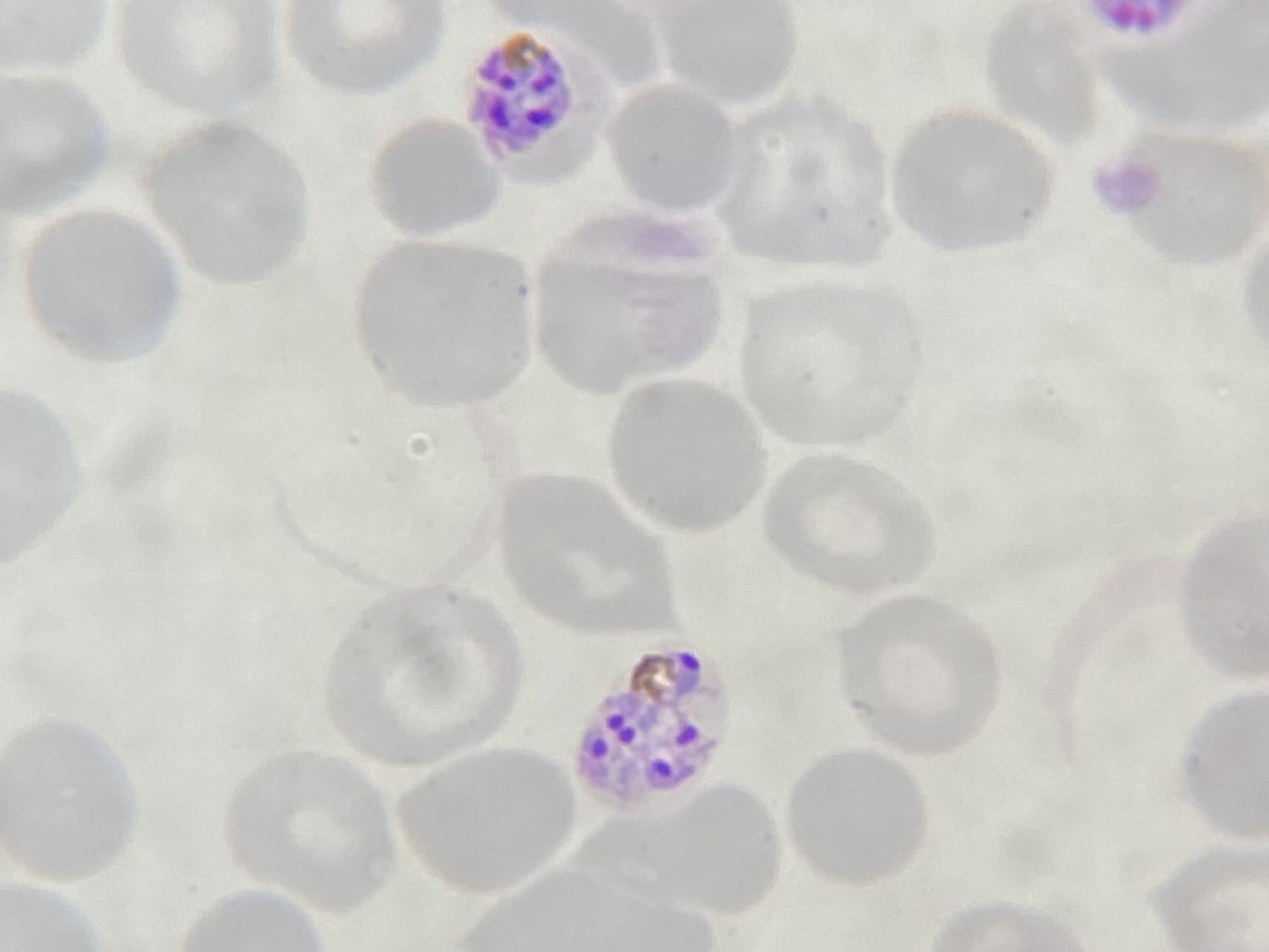Infected: (542, 136, 696, 304), (656, 769, 808, 926)
Uninfected: (752, 174, 949, 364), (545, 540, 722, 738), (376, 685, 554, 859), (349, 502, 533, 666), (741, 542, 911, 713), (871, 38, 1043, 202), (965, 660, 1121, 832), (266, 195, 431, 355), (594, 315, 761, 471), (697, 56, 870, 203), (491, 38, 686, 168), (334, 357, 507, 500), (501, 416, 654, 574), (1, 683, 171, 825), (215, 699, 376, 843), (3, 818, 177, 951), (1097, 588, 1241, 739), (1131, 71, 1266, 228), (340, 65, 485, 205), (998, 834, 1151, 952), (526, 741, 659, 869), (170, 807, 285, 946), (472, 848, 623, 951), (821, 857, 981, 952), (1160, 731, 1266, 873), (1185, 385, 1267, 557), (3, 272, 89, 433), (778, 720, 899, 826), (3, 109, 88, 257)
